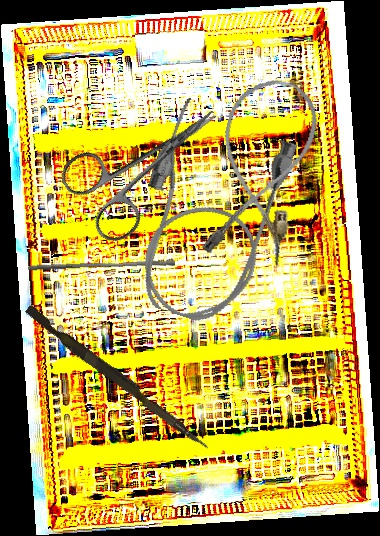Cannula: (112, 94, 302, 334), (195, 70, 326, 271)
Iris Scissors: (54, 76, 245, 250)
Pusher: (21, 304, 215, 452), (27, 254, 176, 277)
